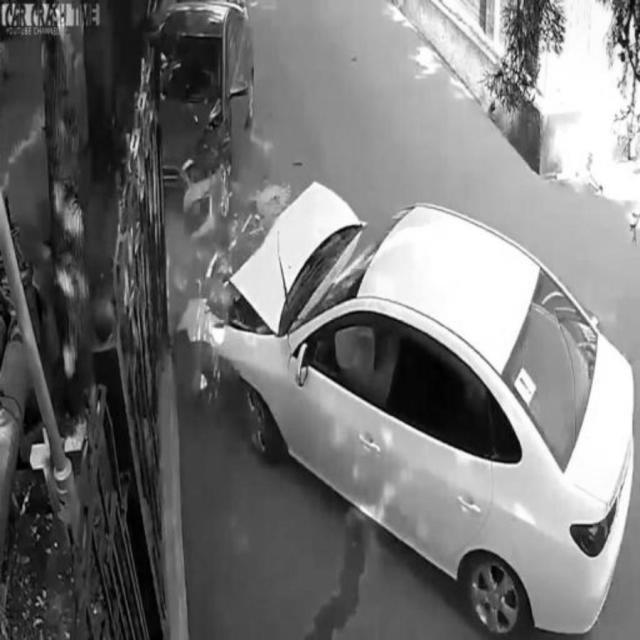vehicle: (243, 183, 633, 631), (160, 5, 258, 195)
